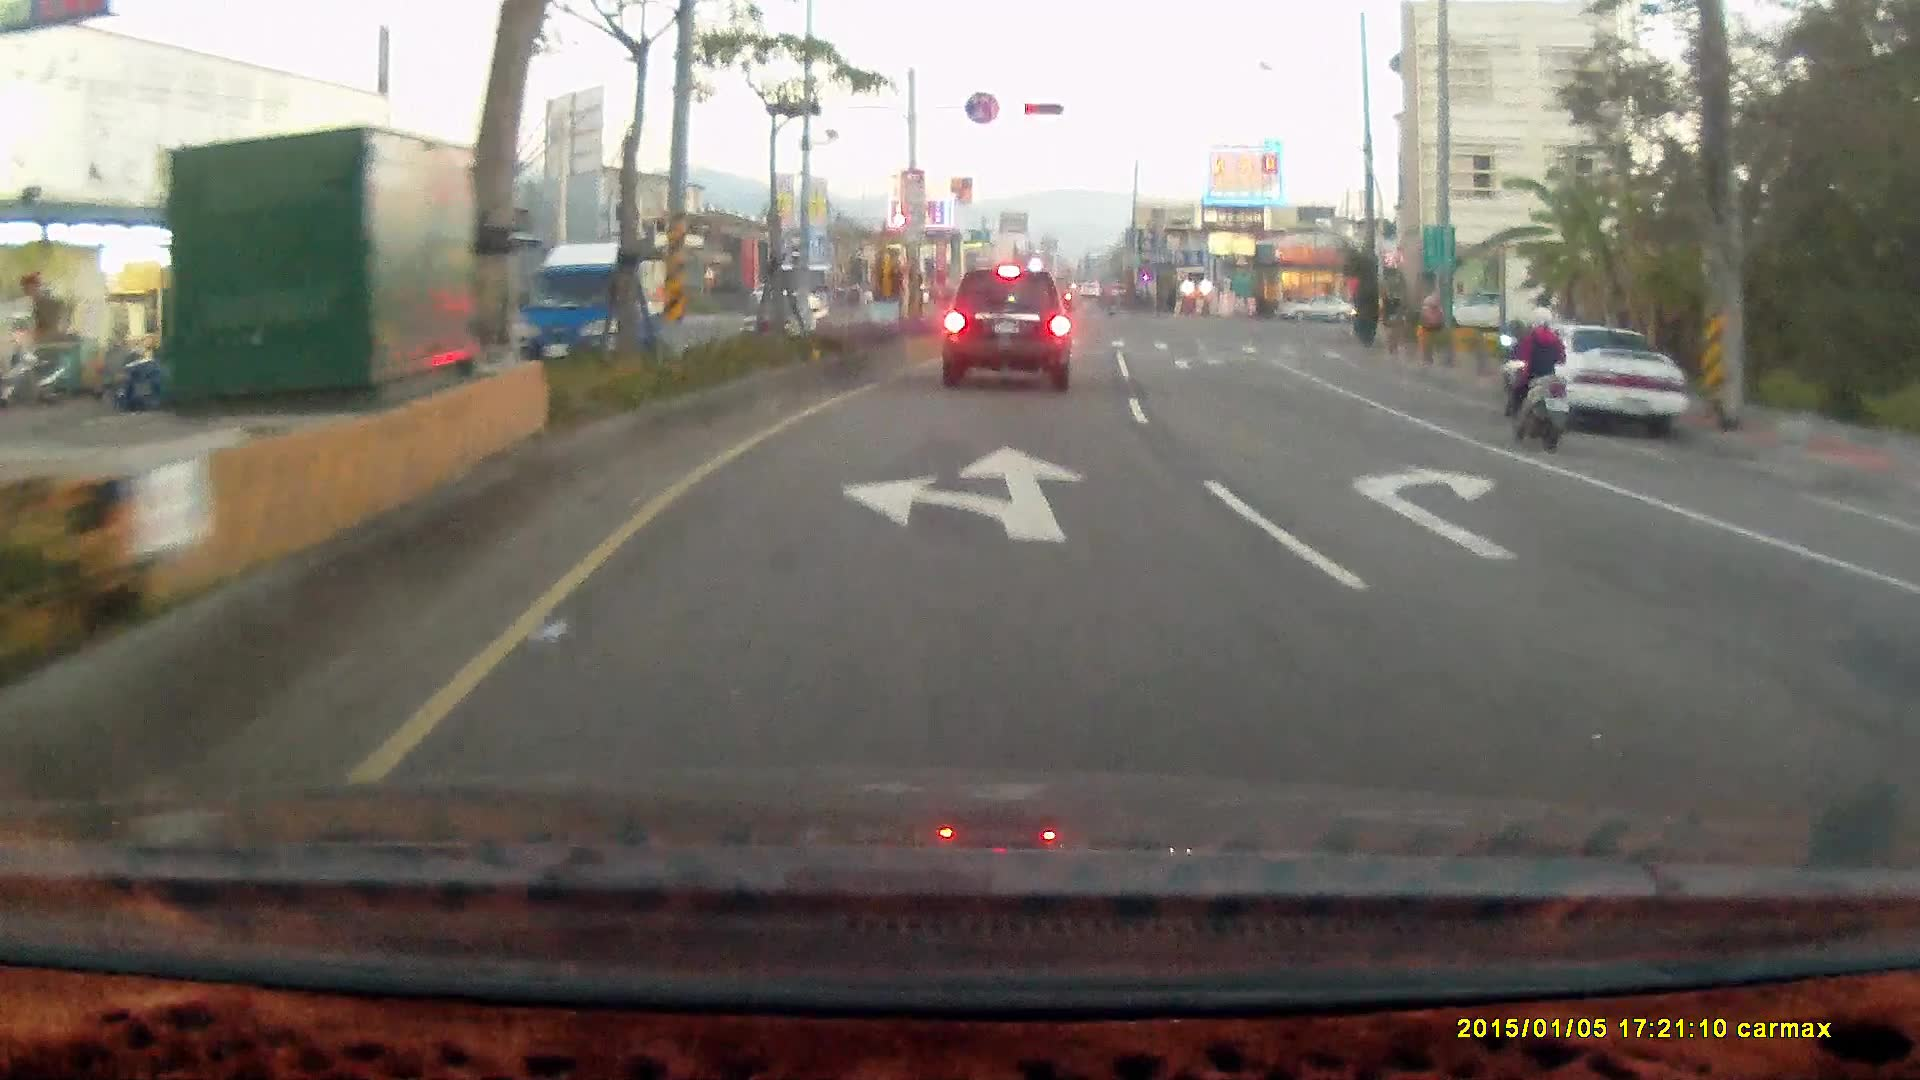rider: (1495, 304, 1575, 451)
vehicle: (503, 238, 683, 374), (1505, 323, 1688, 438), (1509, 327, 1696, 435), (940, 268, 1073, 391), (111, 340, 260, 410), (1896, 493, 1920, 836), (1883, 528, 1920, 690), (1429, 288, 1529, 335), (1274, 293, 1357, 324)
